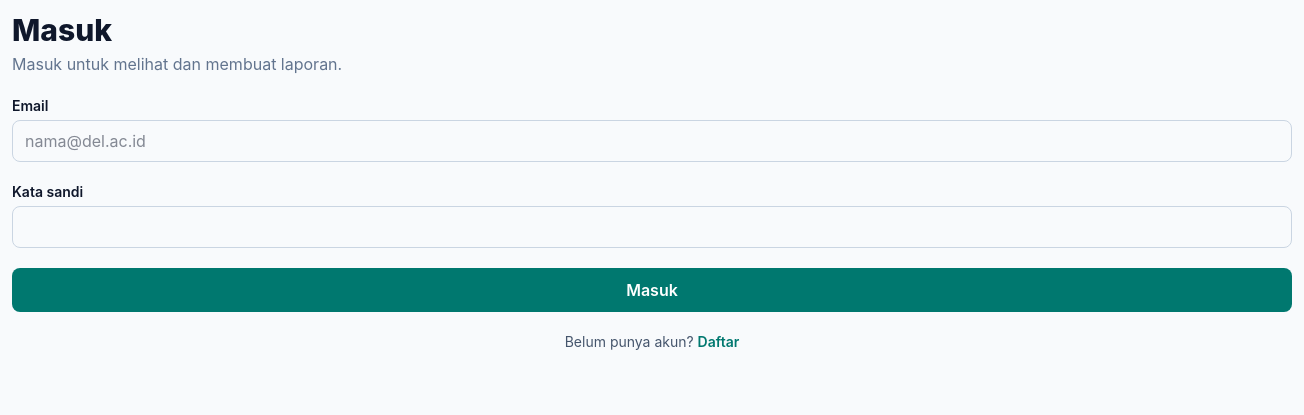
it: LoginPage › menampilkan error validasi lalu menghilang setelah input valid
The width and height of the screenshot is (1304, 415).
Click the button "Masuk": (652, 290) x1=12 y1=268 x2=1292 y2=312
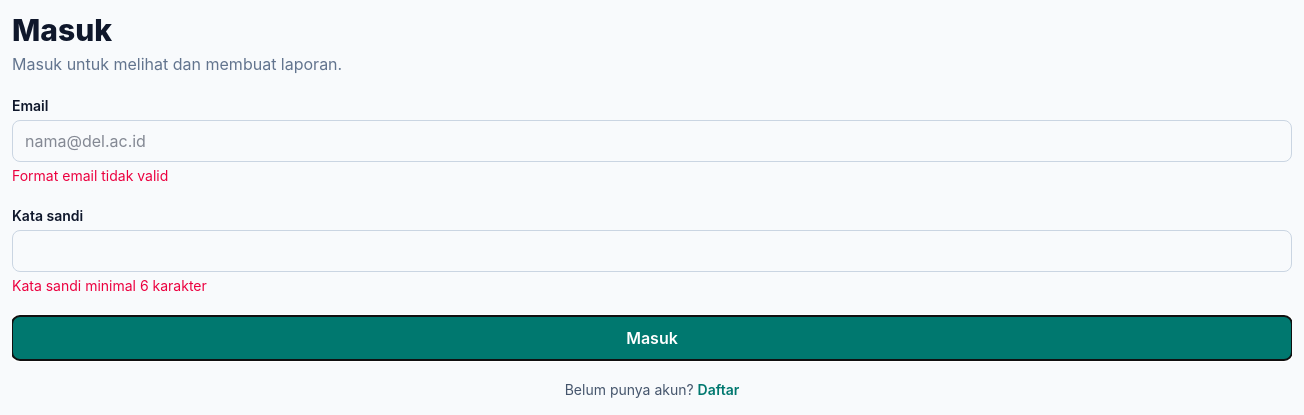
Result: the text "Format email tidak valid" is shown at x1=12 y1=167 x2=168 y2=184
Result: the text "Kata sandi minimal 6 karakter" is shown at x1=12 y1=277 x2=207 y2=294
In the field labelled "Email": (652, 141) x1=12 y1=120 x2=1292 y2=162, type "a@b.co"
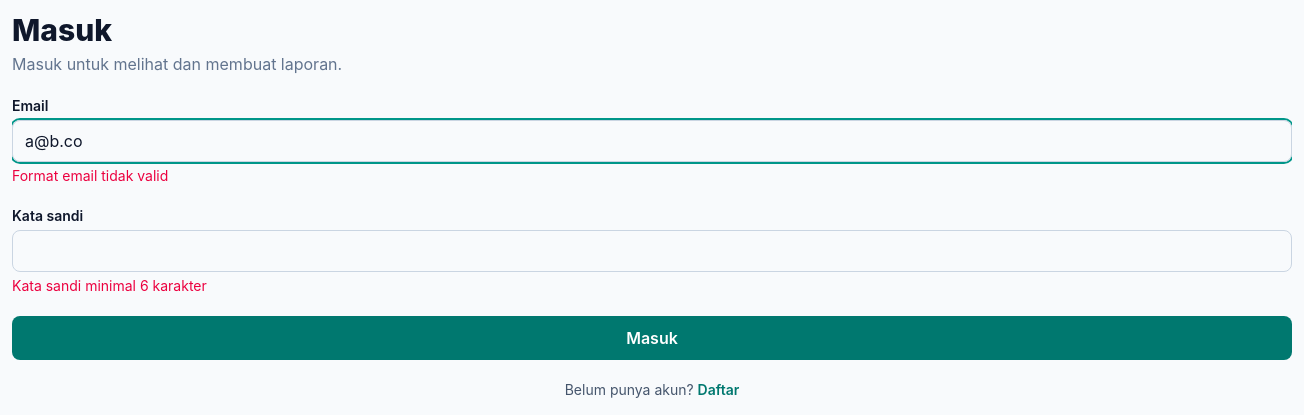
In the password field labelled "Kata sandi": (652, 251) x1=12 y1=230 x2=1292 y2=272, type "123456"
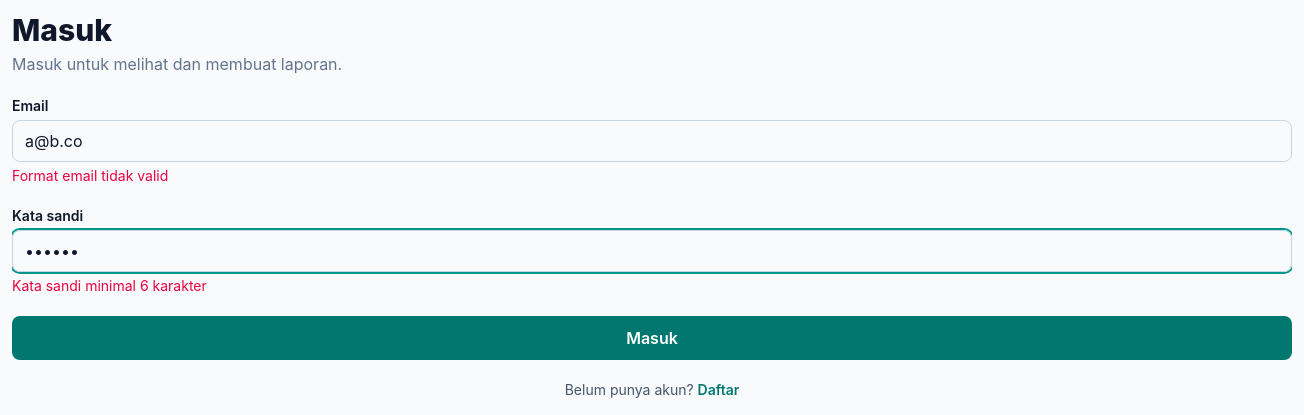
Click the button "Masuk": (652, 338) x1=12 y1=316 x2=1292 y2=360
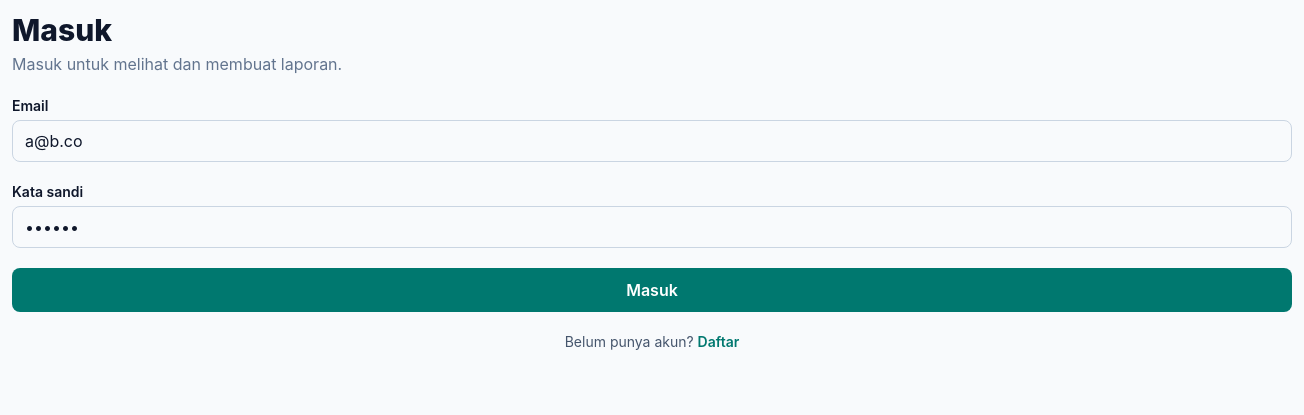
Result: the text "Format email tidak valid" is gone
